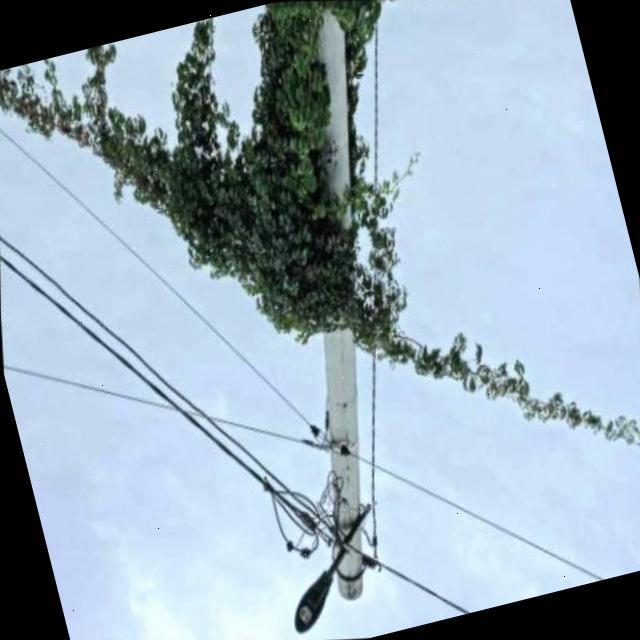critical vegetation: (165, 0, 516, 571), (133, 61, 444, 408)
